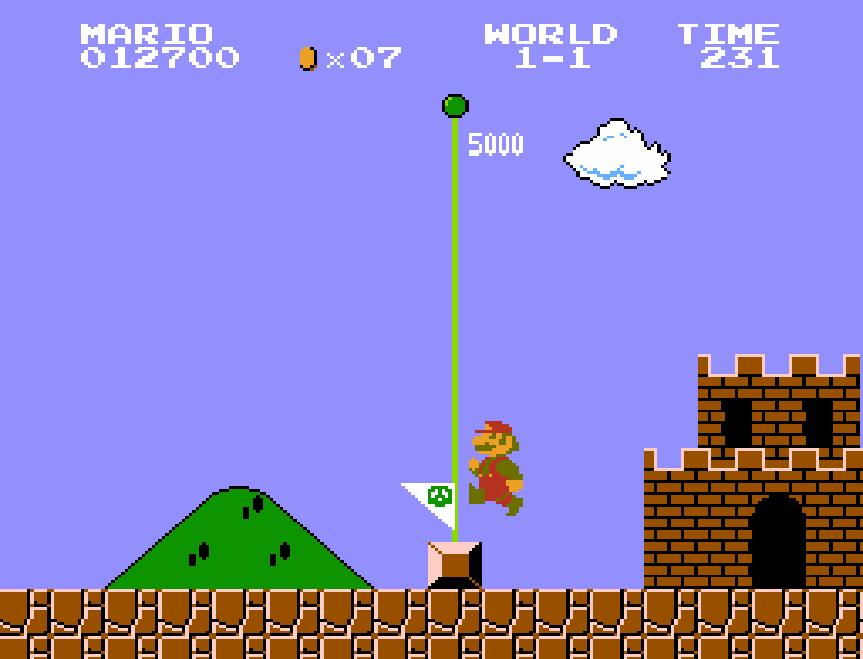big_mario: (467, 420, 525, 518)
